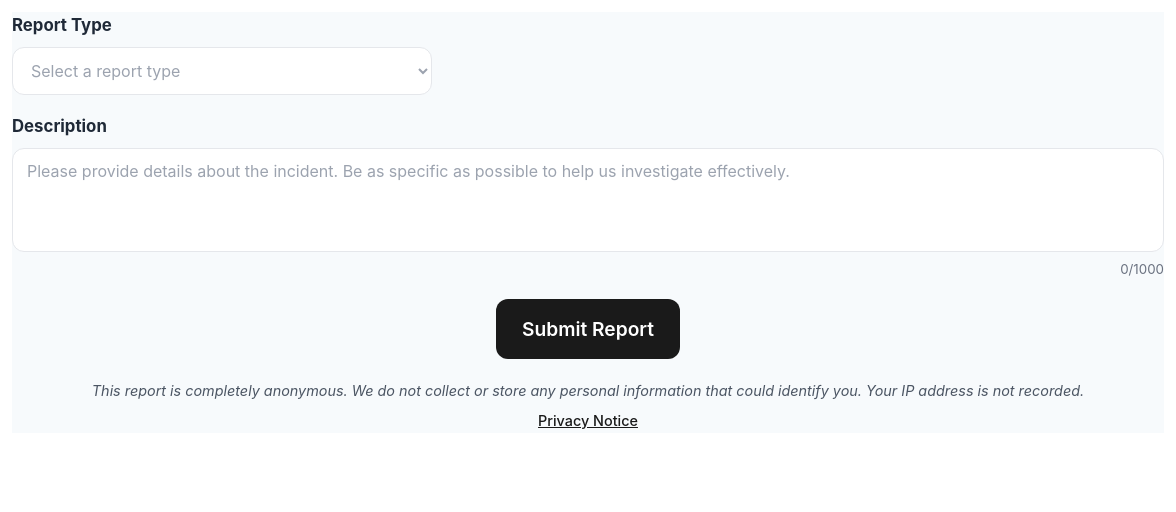
it: ReportForm › should successfully submit valid form
Select "Harassment" in the dropdown labelled "Report Type" at [222, 71], box [12,47,432,95]
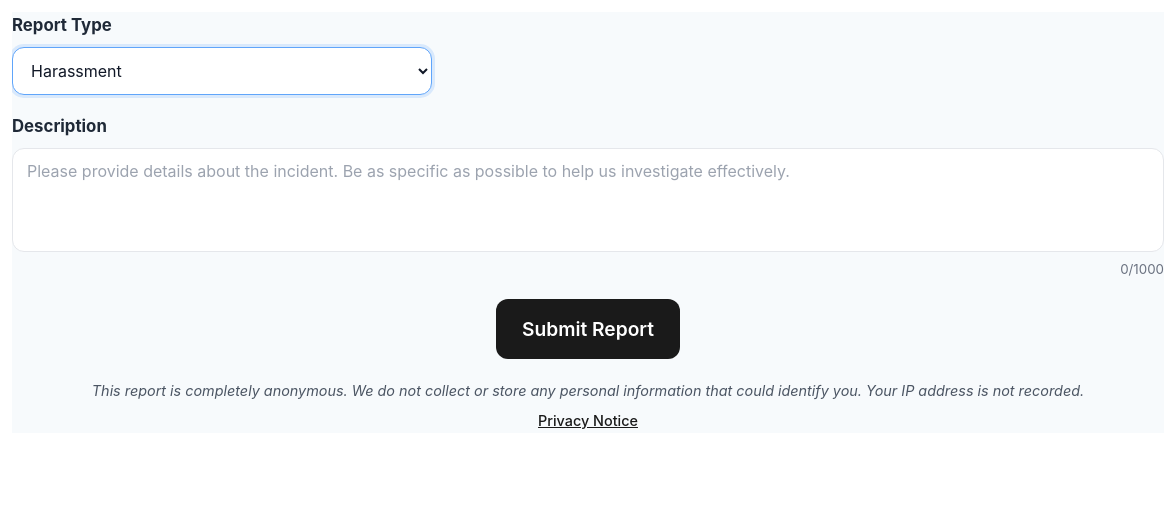
Type "This is a detailed description of the harassment incident." into the text box labelled "Description" at [588, 200], box [12,148,1164,252]
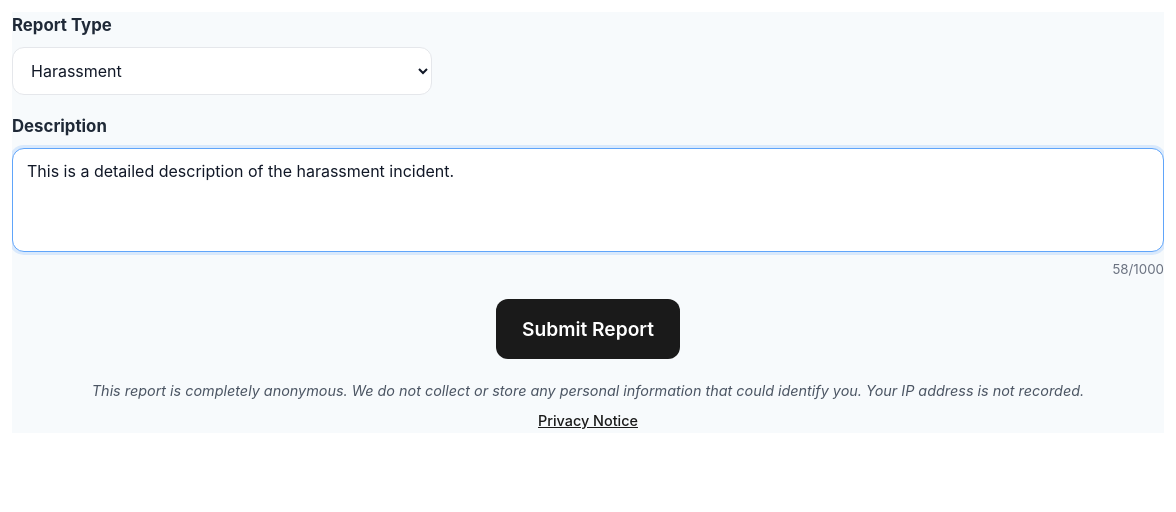
Click the button "Submit Report" at [588, 329], box [496,299,680,359]
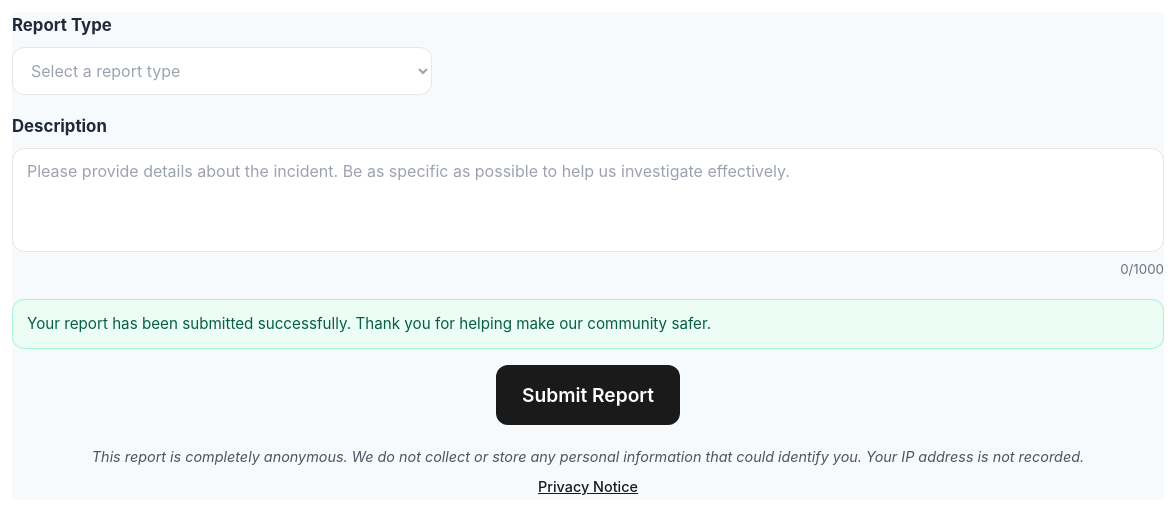
Expected: the text "Your report has been submitted successfully" is shown, [27,314,711,333]
